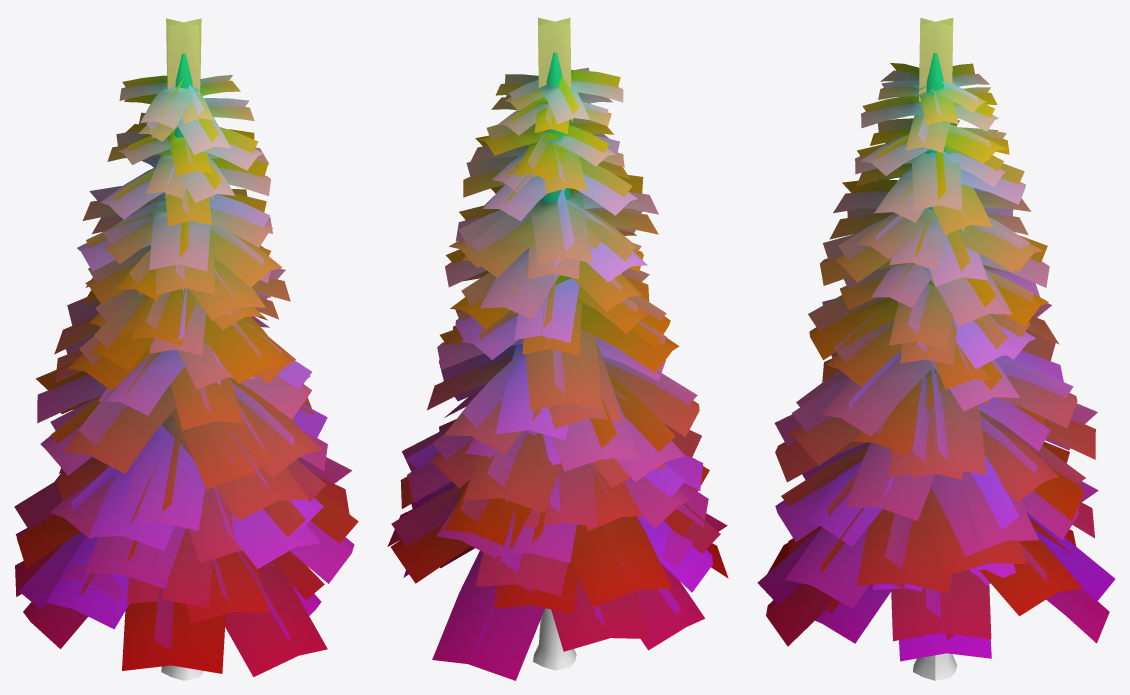
Rendered from SM_Tree_Pine_01.fbx.
3 views of the same model, side by side, from view 1: azimuth 30°, elevation 25°; view 2: azimuth 150°, elevation 25°; view 3: azimuth 270°, elevation 25° (orthographic).
Parts seen in each view (by area): view 1: SM_Tree_Pine_01_LOD0; view 2: SM_Tree_Pine_01_LOD0; view 3: SM_Tree_Pine_01_LOD0.
Part boxes in pixels (<box>): SM_Tree_Pine_01_LOD0: <box>14,18,358,680</box>; SM_Tree_Pine_01_LOD0: <box>387,17,728,680</box>; SM_Tree_Pine_01_LOD0: <box>757,18,1115,680</box>.
Size of what is drawn, in the model's own units: 8.26 by 16.91 by 8.46.
